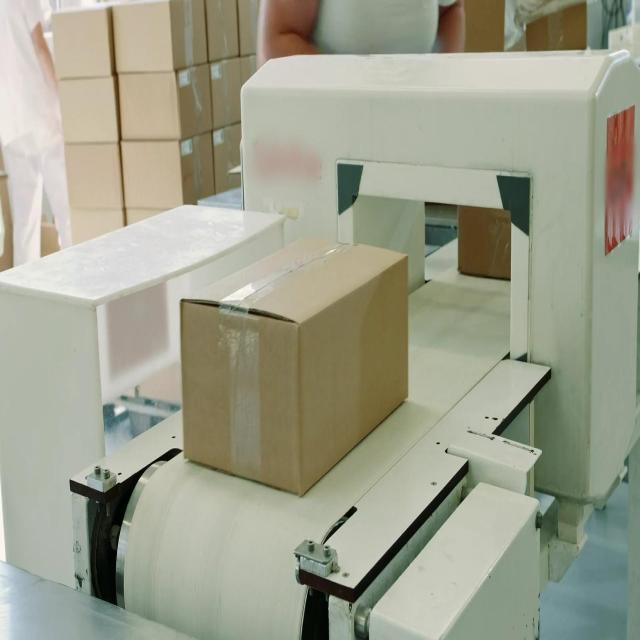box: (176, 226, 410, 502)
